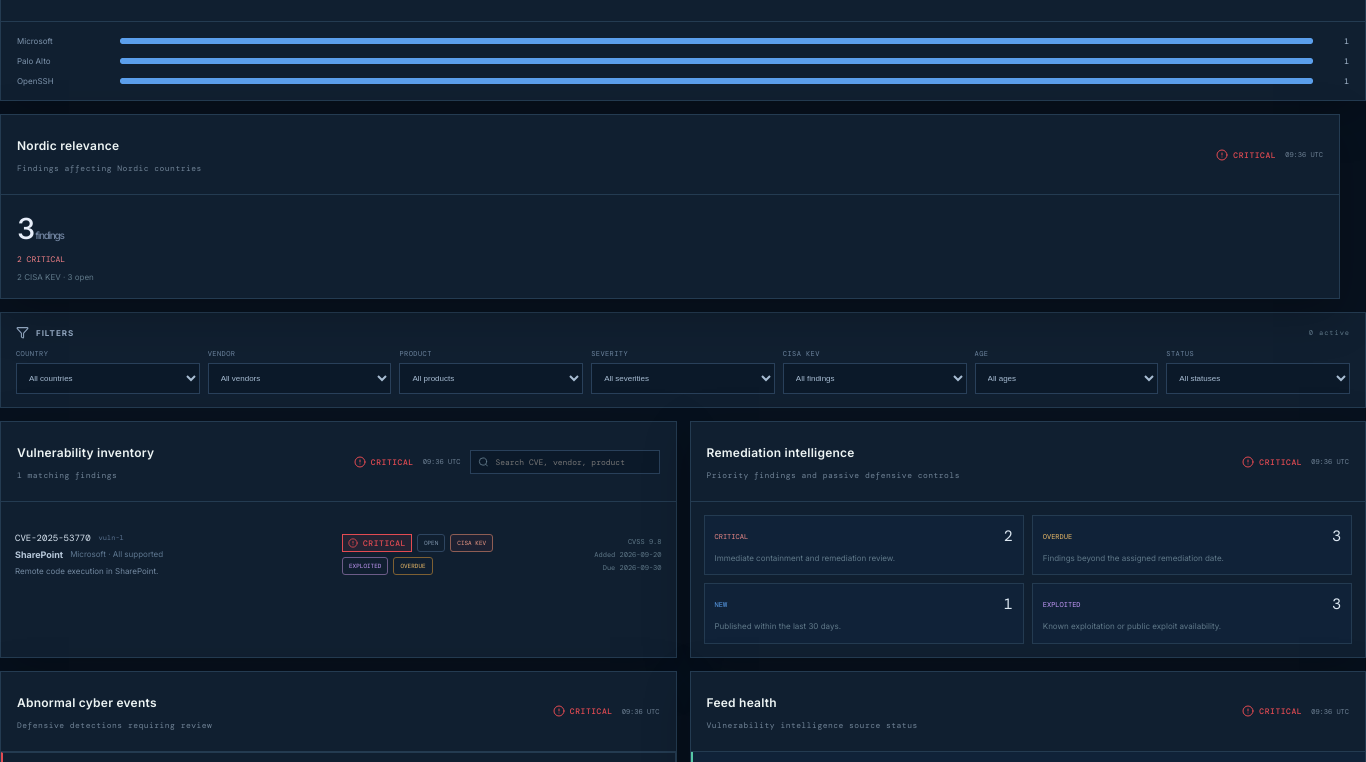
it: Cyber Security dashboard › renders defensive vulnerability overview, filters, and priority data
(page scrolled)
Expected: the heading "Vulnerability inventory" is shown, [17, 445, 154, 460]
Expected: the heading "Abnormal cyber events" is shown, [17, 695, 157, 710]
Select "CRITICAL" in the dropdown labelled "Severity" at (683, 379), box [591, 363, 775, 394]
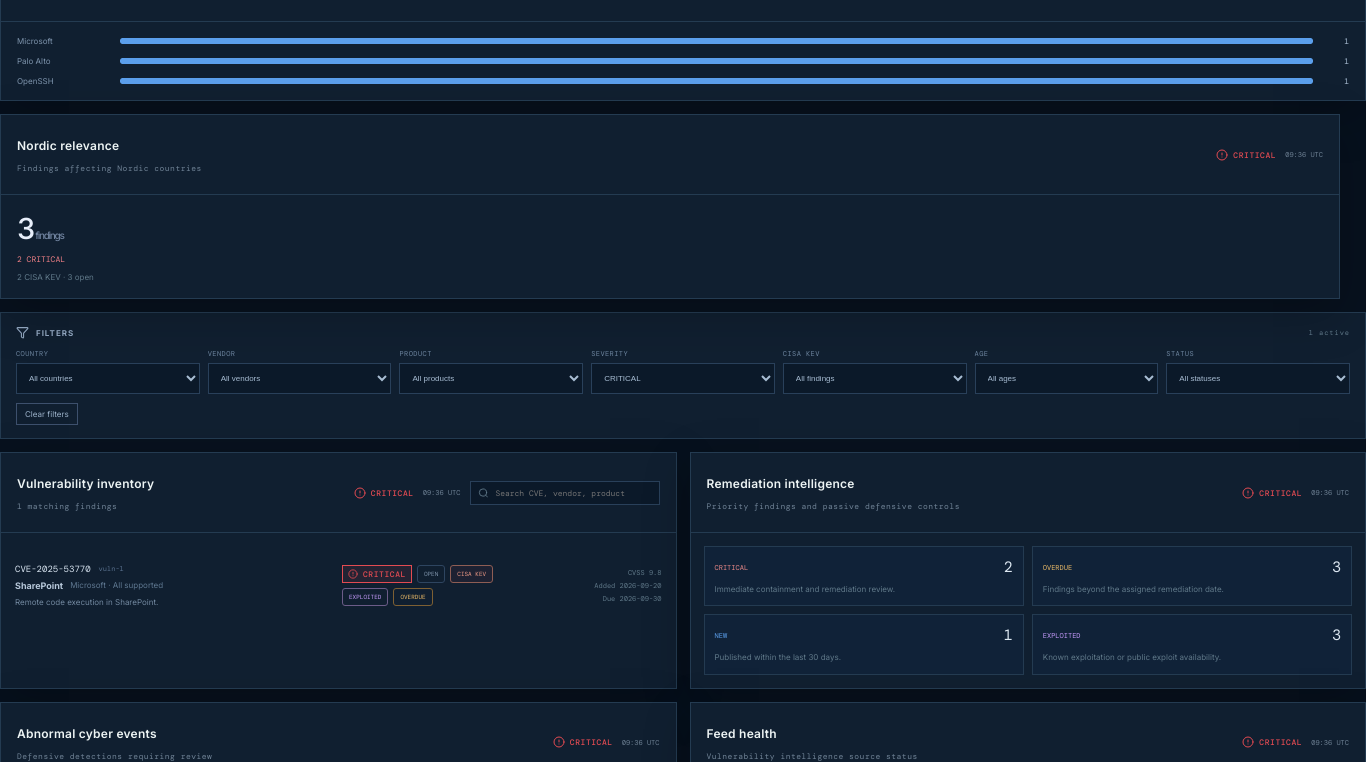
Expected: the button "Clear filters" is shown
Click the button "Clear filters".
click(47, 414)  # box [16, 403, 78, 425]
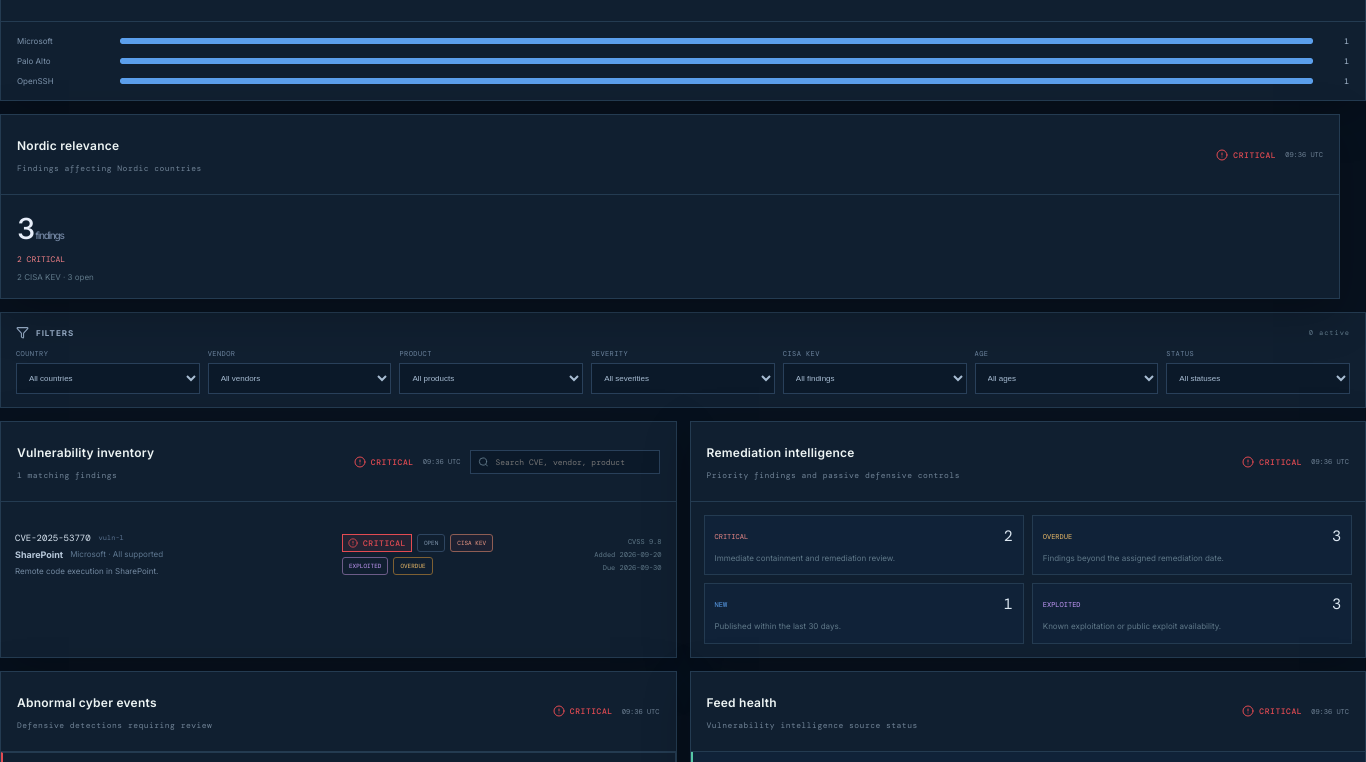
Expected: the button "Clear filters" is gone
